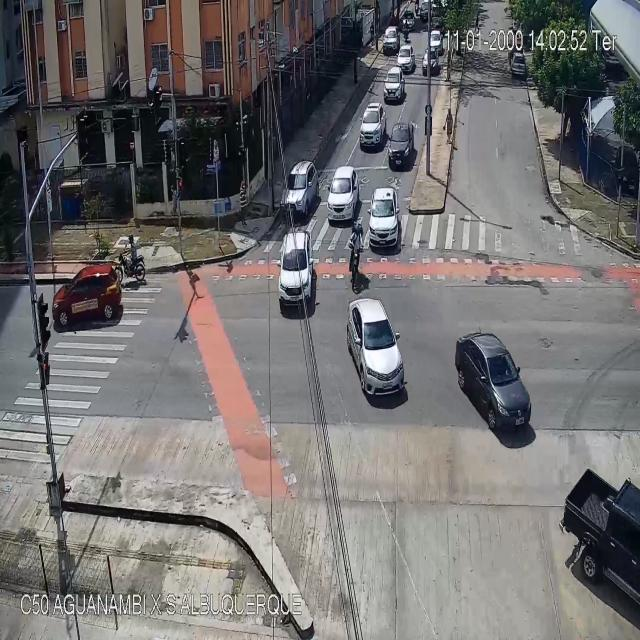Car: (560, 470, 640, 604), (455, 333, 531, 434), (348, 298, 404, 398), (52, 263, 122, 326), (278, 232, 316, 305), (368, 185, 402, 248), (326, 165, 360, 226), (281, 160, 318, 214), (388, 122, 416, 168), (359, 104, 389, 146), (384, 66, 403, 98), (421, 47, 440, 74), (381, 25, 399, 53), (396, 48, 412, 71), (428, 31, 444, 53), (511, 53, 525, 75), (419, 3, 429, 21), (403, 10, 414, 26)
Motorcycle: (114, 235, 146, 284), (349, 219, 362, 290), (403, 21, 408, 41)
